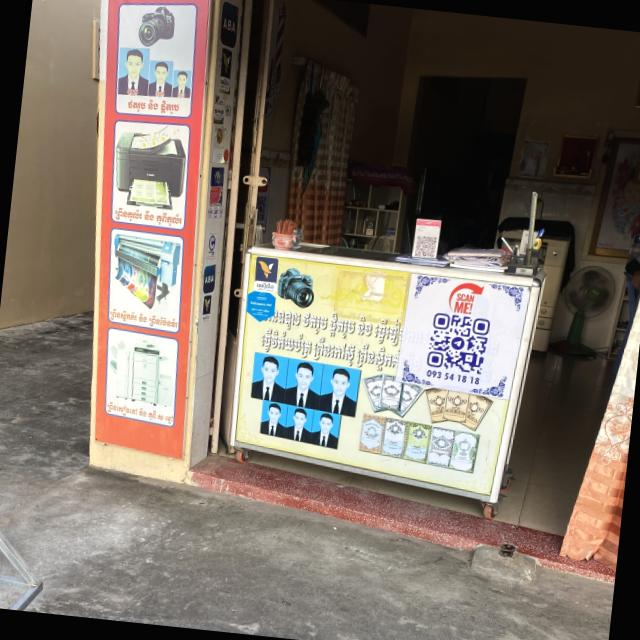2: (257, 326, 393, 373), (107, 308, 179, 332), (114, 205, 183, 228), (126, 97, 180, 115)
3: (105, 401, 174, 426)
4: (276, 304, 401, 347)
447: (425, 366, 480, 387)
701: (176, 92, 185, 98)
739: (154, 89, 166, 98)
763: (126, 86, 138, 96)
Yolov11kh: (255, 280, 274, 291)
